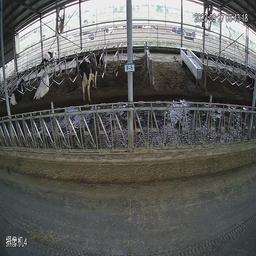cow: (80, 52, 105, 98), (38, 50, 58, 75), (9, 79, 26, 106), (34, 72, 50, 99)
